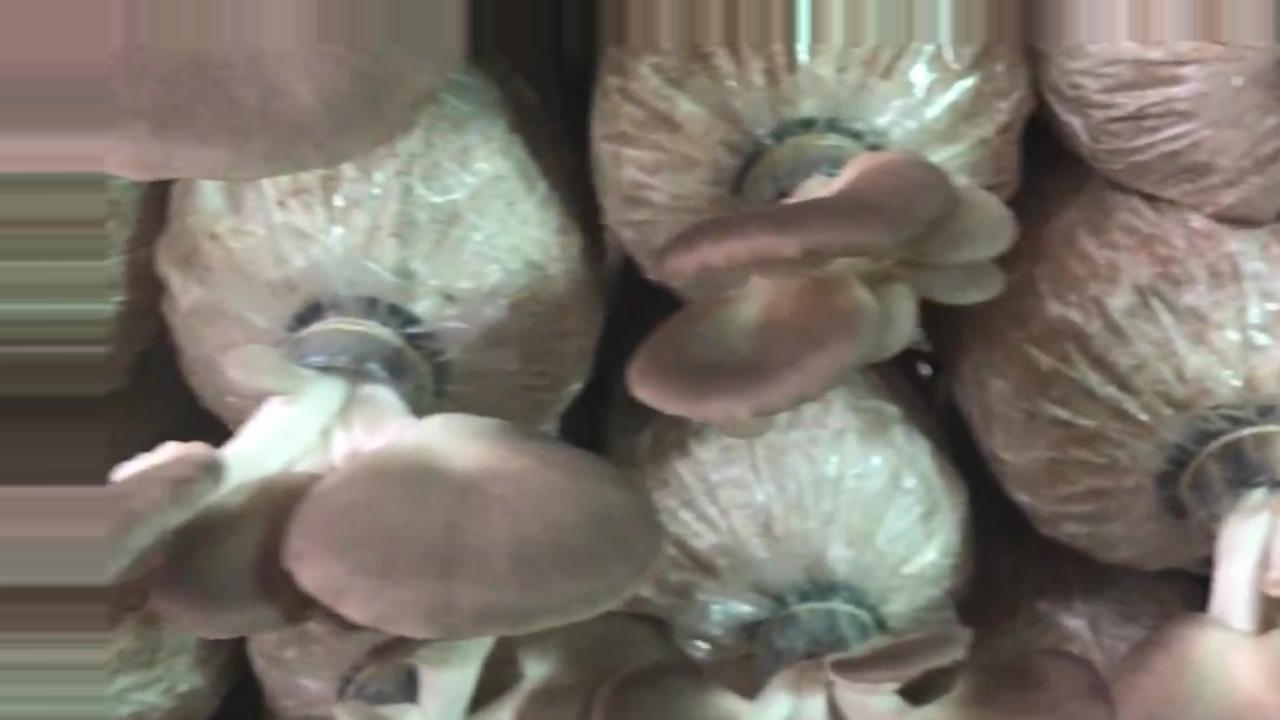nam: (143, 318, 664, 645), (625, 113, 1023, 431), (600, 599, 1109, 717), (1105, 434, 1280, 716)
